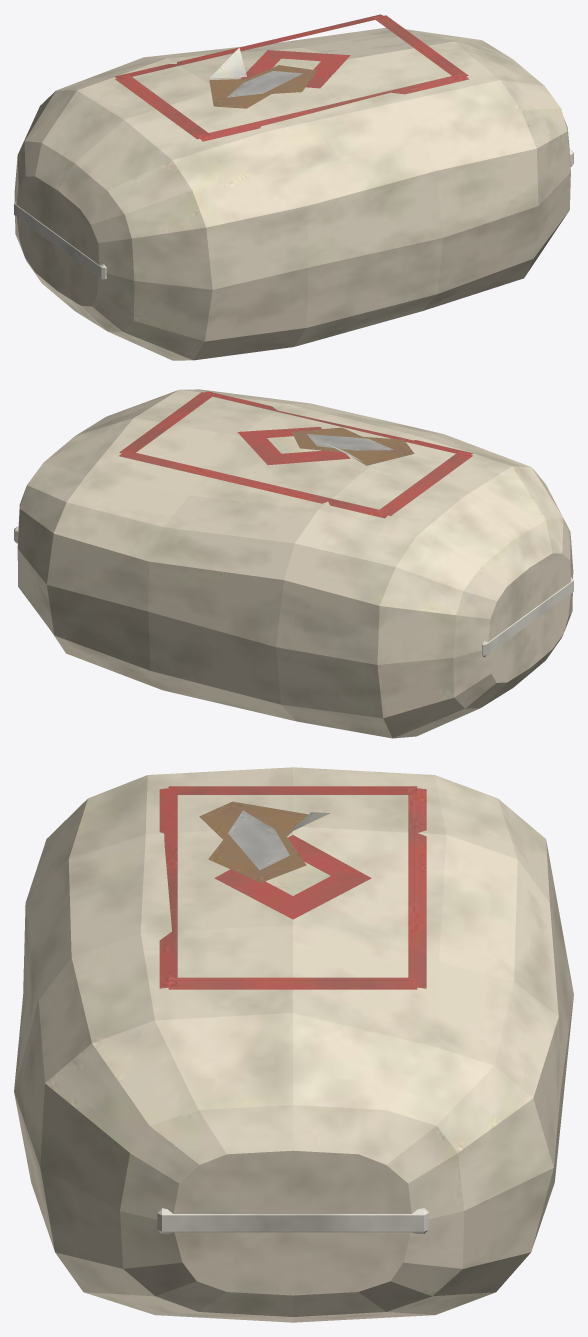
Rendered from D20_cement_bags_v2.glb.
The picture shows the model from 3 angles, top to bottom: view 1: azimuth 30°, elevation 25°; view 2: azimuth 150°, elevation 25°; view 3: azimuth 270°, elevation 25°; orthographic projection. The views are drawn at different scales.
Parts seen in each view (by area): view 1: Filled creased cement sack; view 2: Filled creased cement sack; view 3: Filled creased cement sack.
Boxes of the visible parts, bbox=[...] form: Filled creased cement sack: bbox=[14, 14, 573, 360]; Filled creased cement sack: bbox=[14, 389, 573, 738]; Filled creased cement sack: bbox=[14, 767, 573, 1322].
Size of the model in its own units: 0.6 by 0.3022 by 0.4094.
5 materials, 5 textured.
